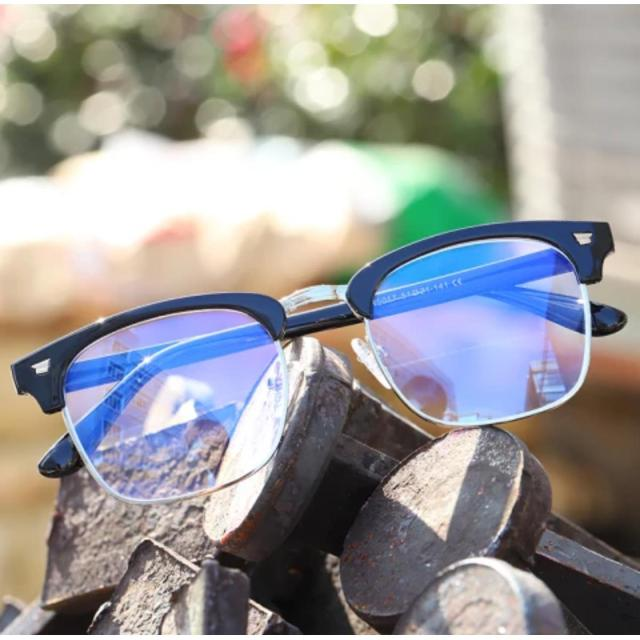glasses: (7, 215, 627, 503)
